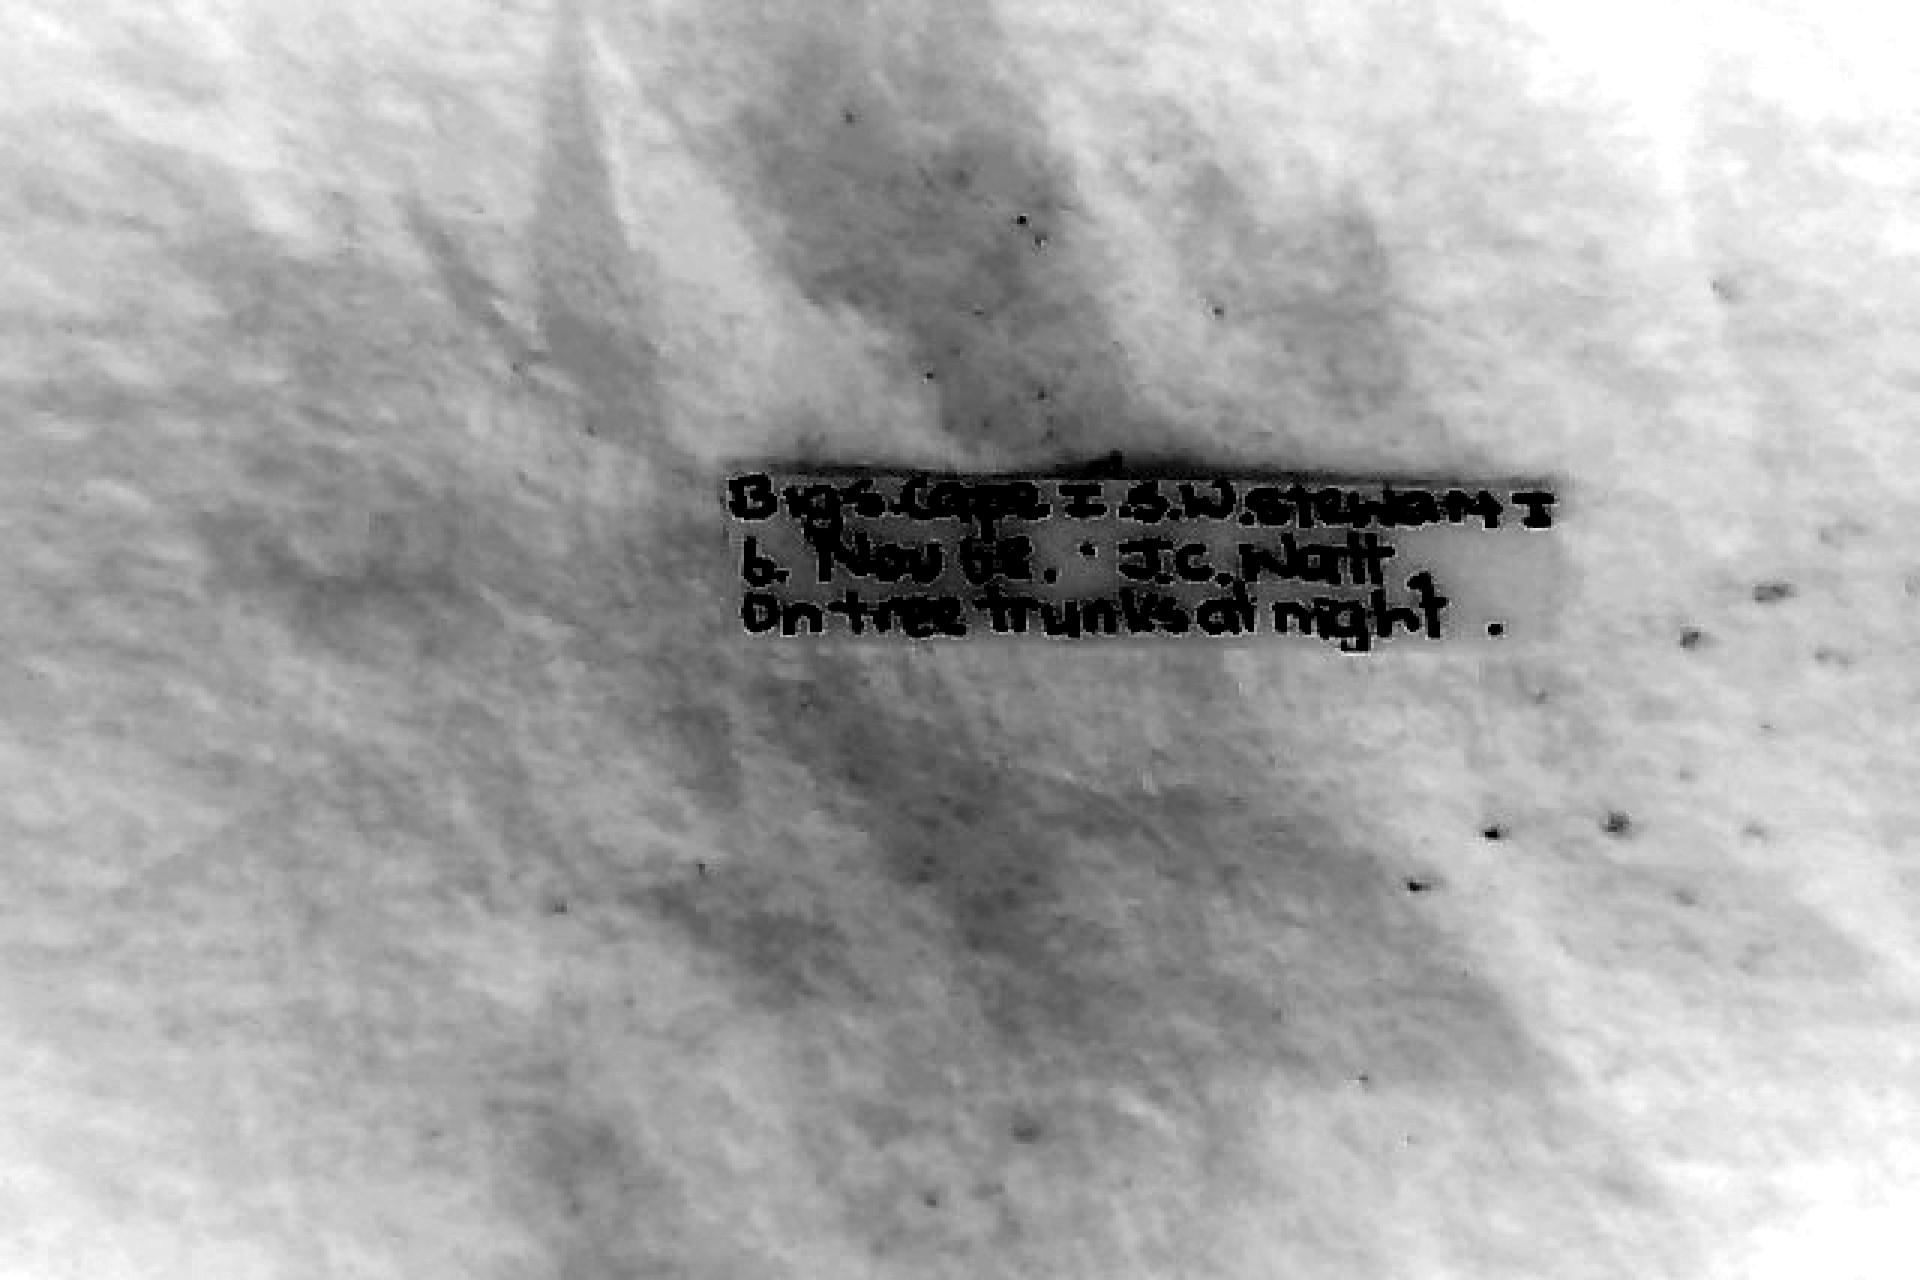hand_label: (727, 470, 1556, 651)
